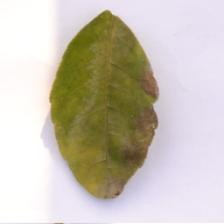black spot: (101, 61, 176, 168)
